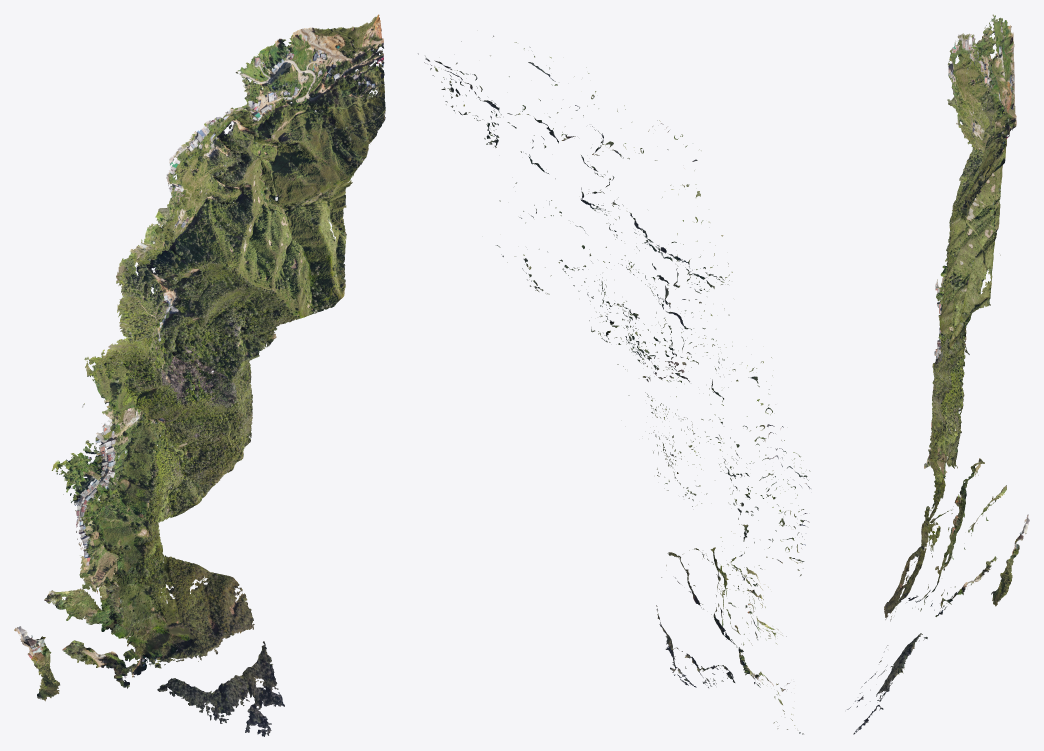
File: modelo.glb
The picture shows the model from 3 angles, left to right: view 1: azimuth 30°, elevation 25°; view 2: azimuth 150°, elevation 25°; view 3: azimuth 270°, elevation 25°; orthographic projection. The views are drawn at different scales.
Size of the model in its own units: 827 by 1373 by 301.
33 materials, 33 textured.
